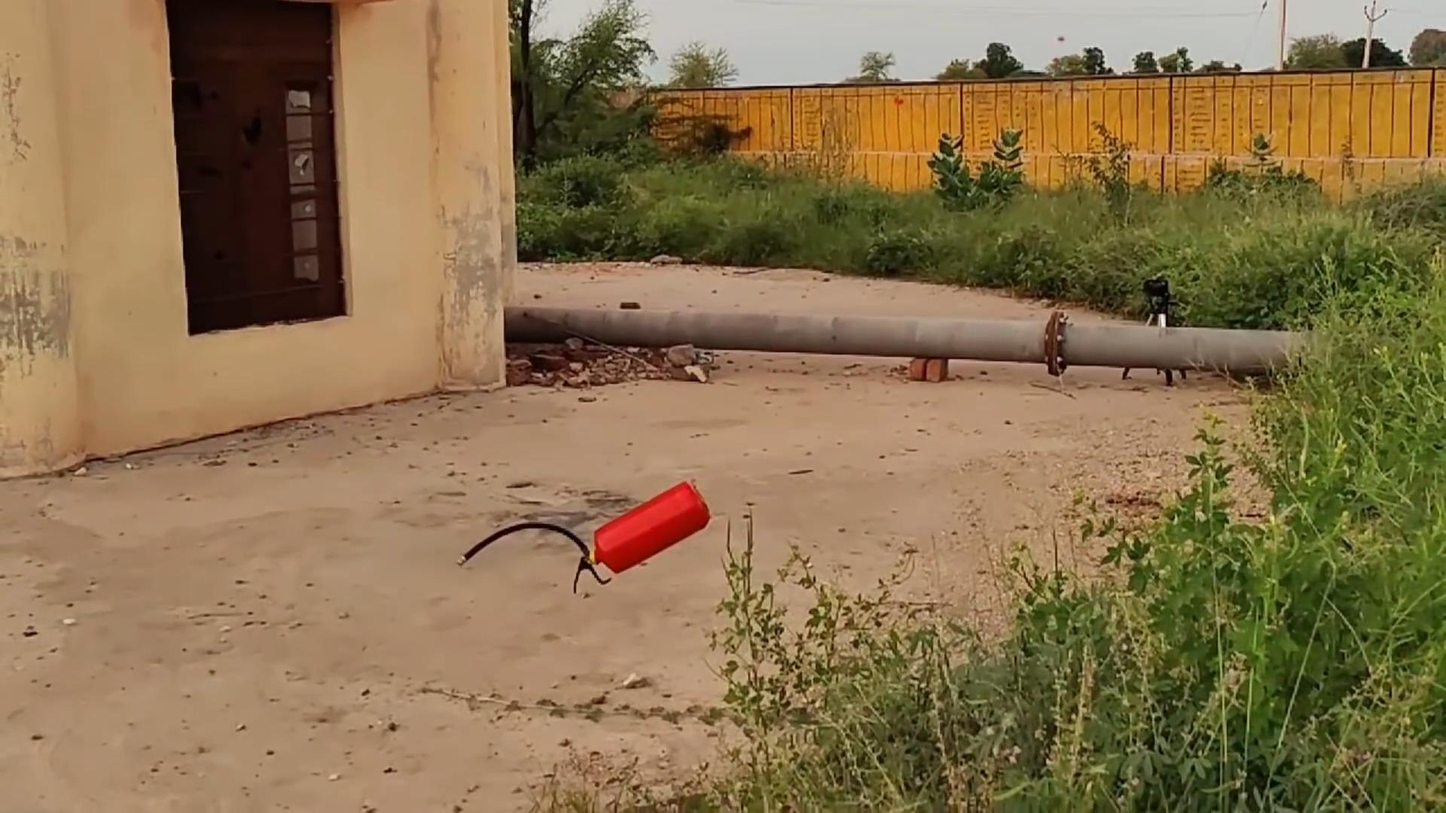FireExtinguisher: (552, 469, 721, 591)
